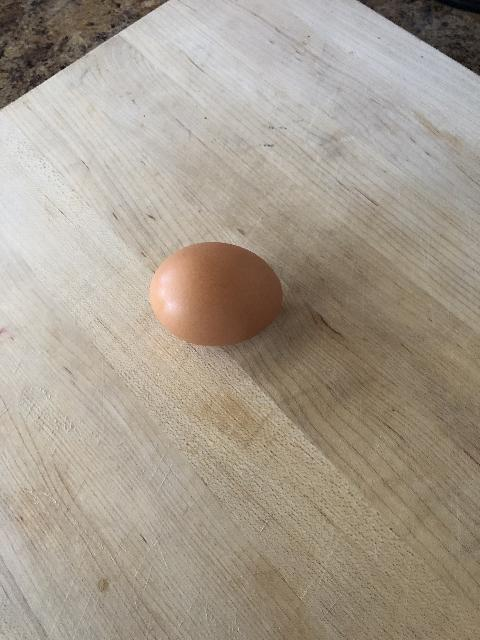Sano: (152, 241, 284, 347)
